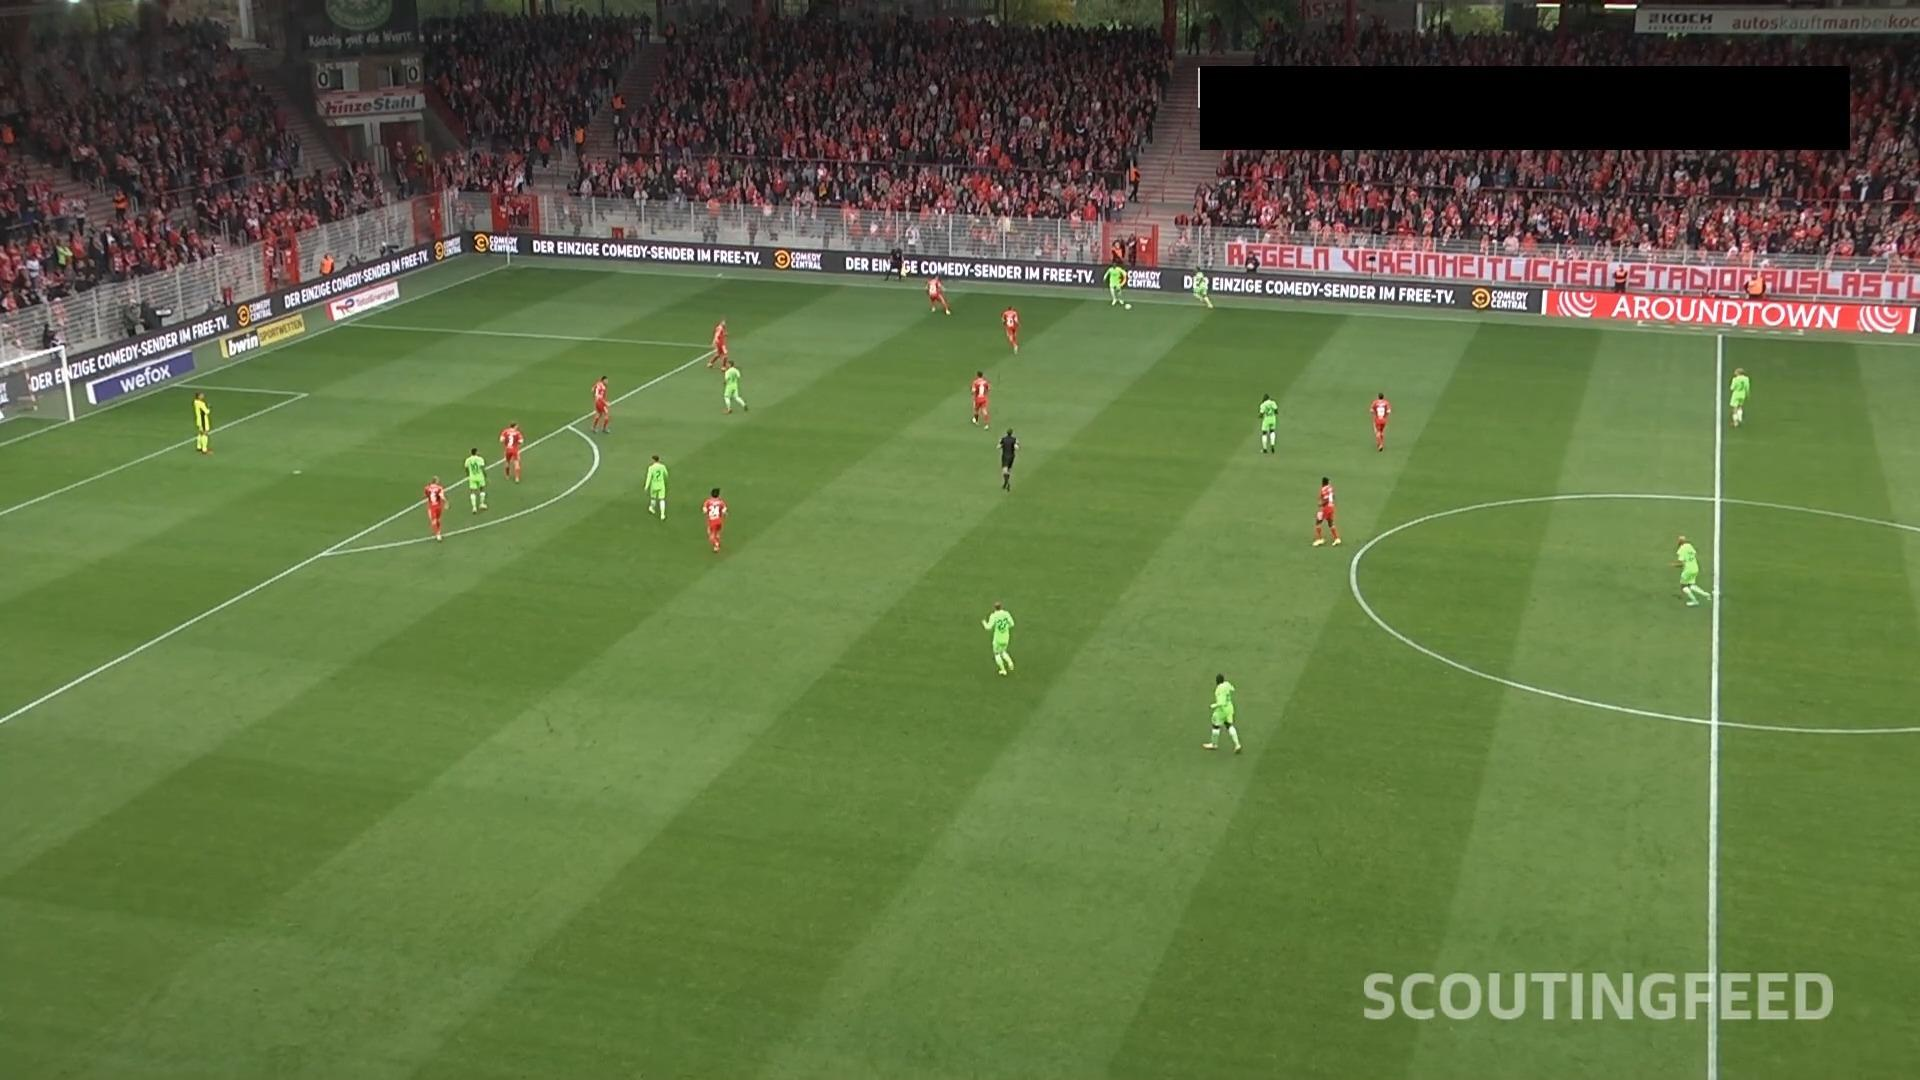ball: (1124, 302, 1133, 313)
